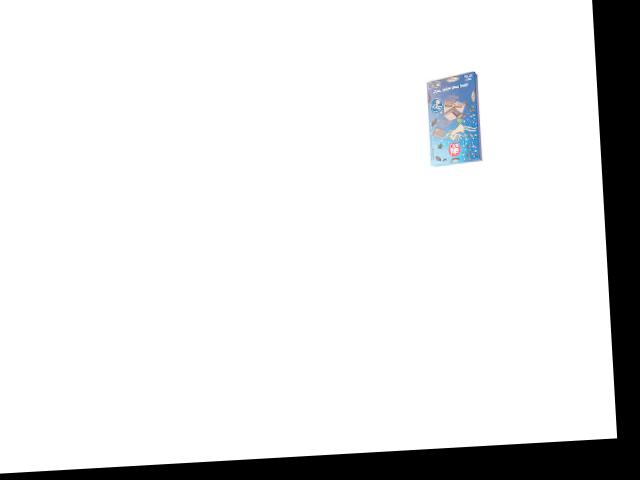chocolate: (419, 70, 488, 169)
